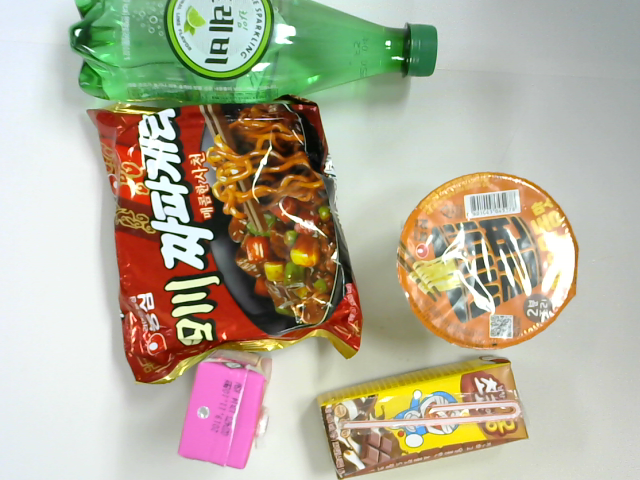Choco_E_Mong: (302, 350, 550, 473)
Sichuan_Chapaghetti: (98, 103, 339, 341)
Strawberry_E_Mong: (173, 346, 276, 469)
Treviraim_500ml: (54, 1, 443, 111)
Udongmini: (383, 181, 575, 344)
